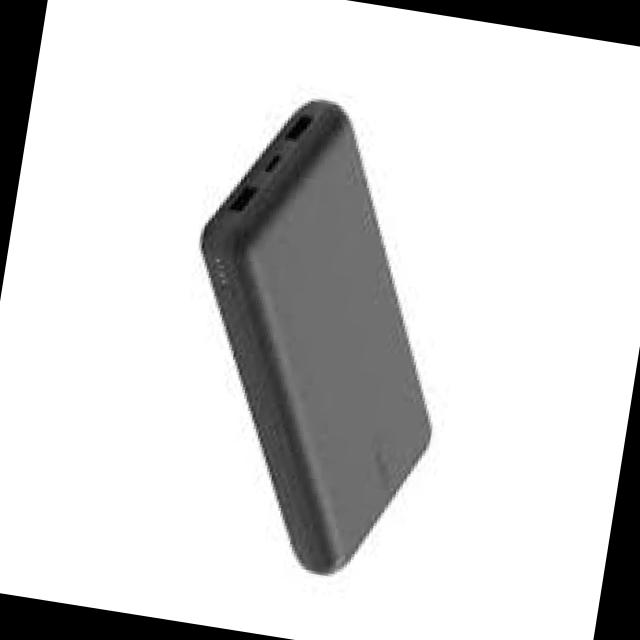portable-charger: (146, 80, 493, 598)
